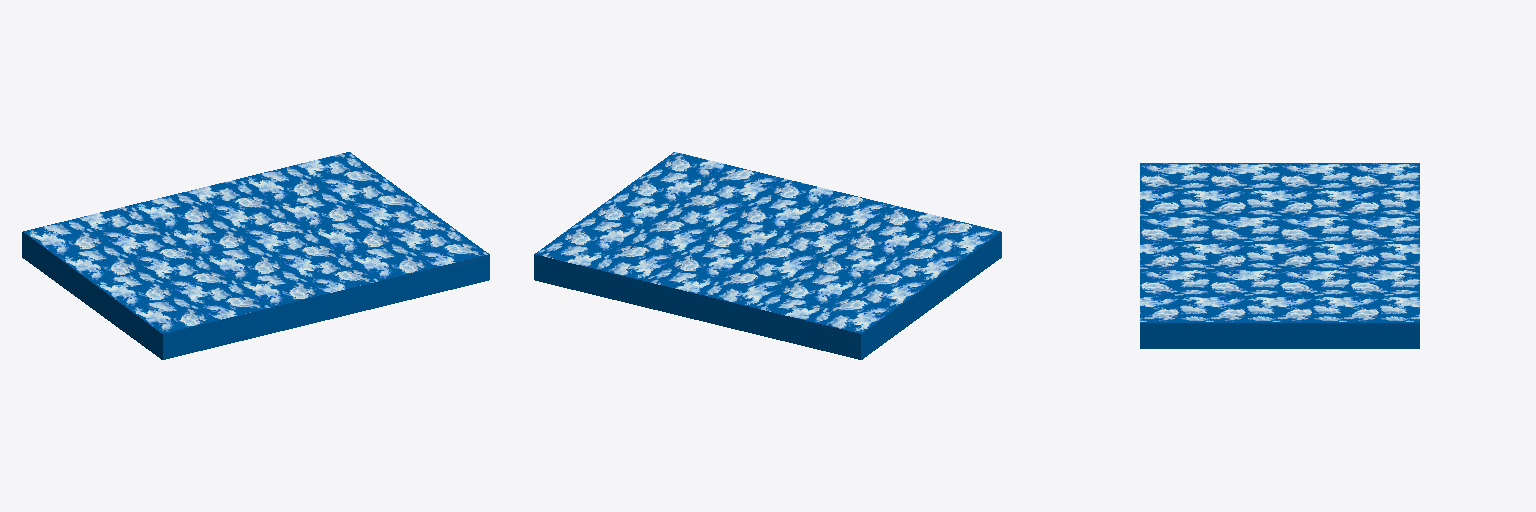
3 renders of one model, left to right at view 1: azimuth 30°, elevation 25°; view 2: azimuth 150°, elevation 25°; view 3: azimuth 270°, elevation 25°, orthographic.
Visible parts, largest first — view 1: object_3264AD4, object_3264D2C; view 2: object_3264AD4, object_3264D2C; view 3: object_3264AD4, object_3264D2C.
Part boxes in pixels (x1,y1,x2,y2): object_3264AD4: (23, 152, 488, 333); object_3264D2C: (22, 232, 489, 359); object_3264AD4: (535, 152, 1000, 333); object_3264D2C: (534, 232, 1001, 359); object_3264AD4: (1140, 163, 1419, 322); object_3264D2C: (1140, 323, 1419, 348).
Bounding box in the file's own units: 4857 × 372 × 3603.
137 materials, 39 textured.